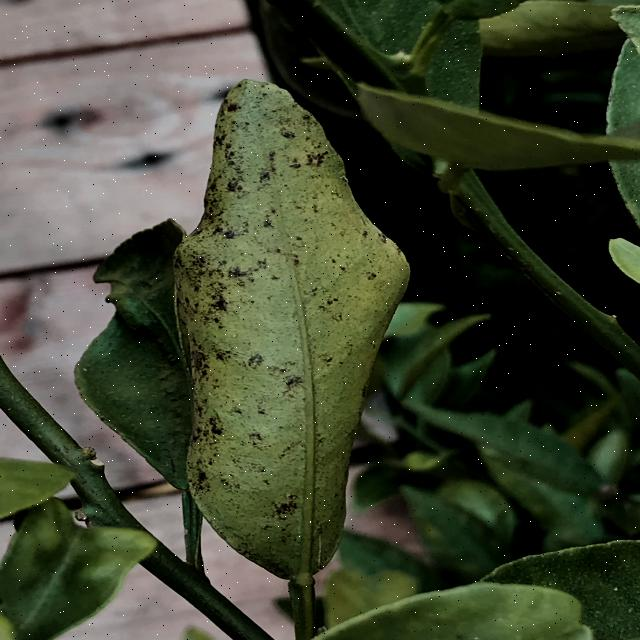melanose: (170, 76, 404, 580)
